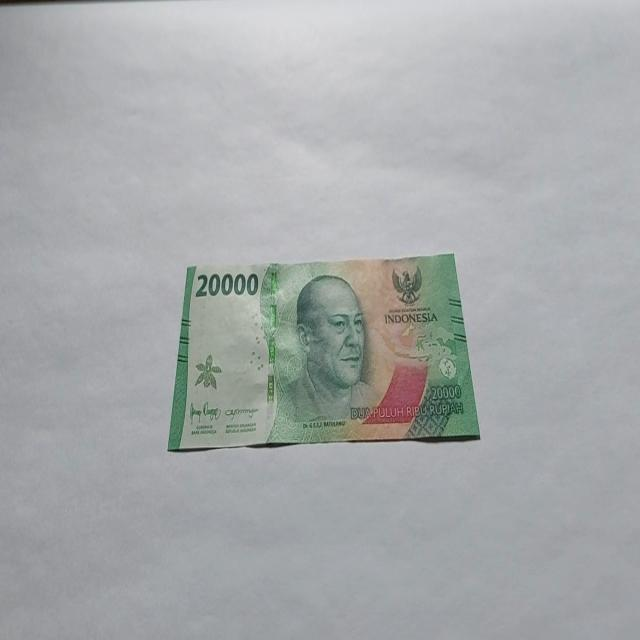dua puluh ribu rupiah: (167, 252, 481, 452)
